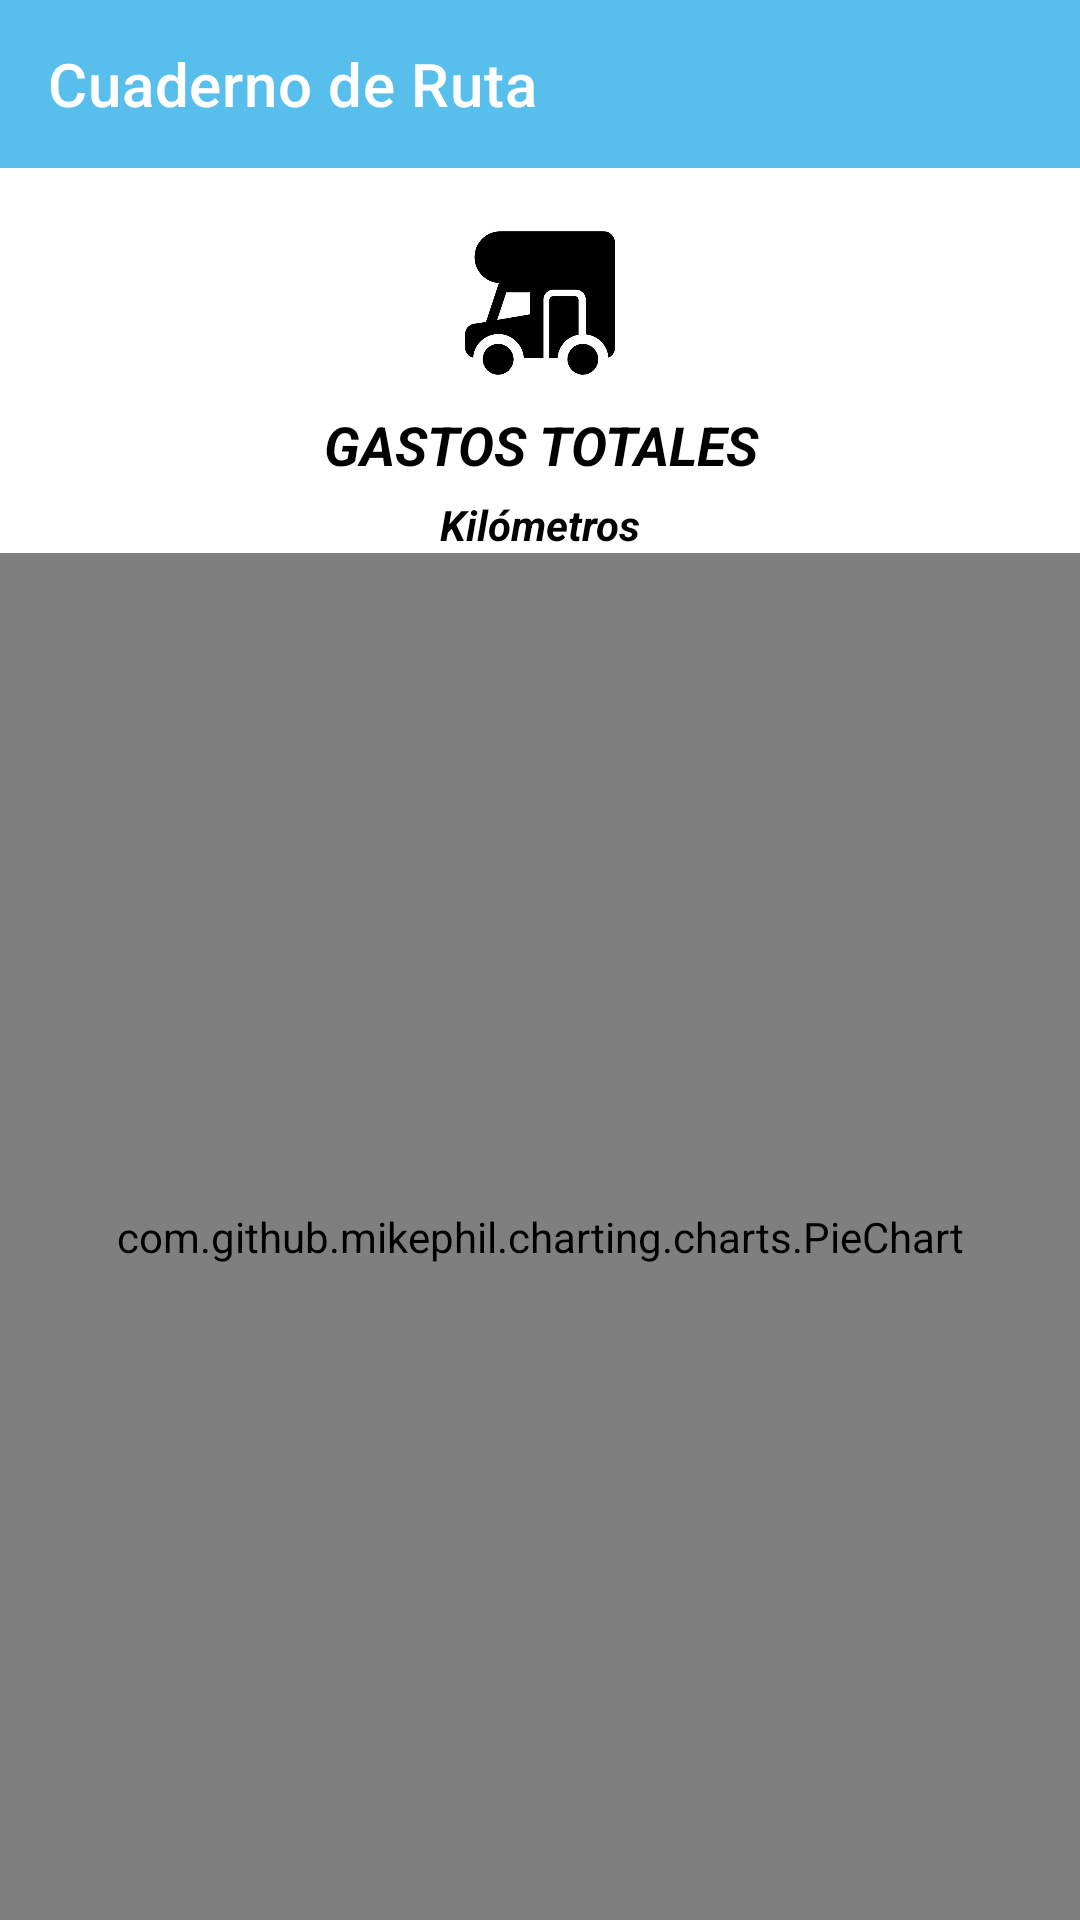

Icon click points for this 1080 x 1920 phone screenshot, format [x,y]:
campervan: [540,303]
